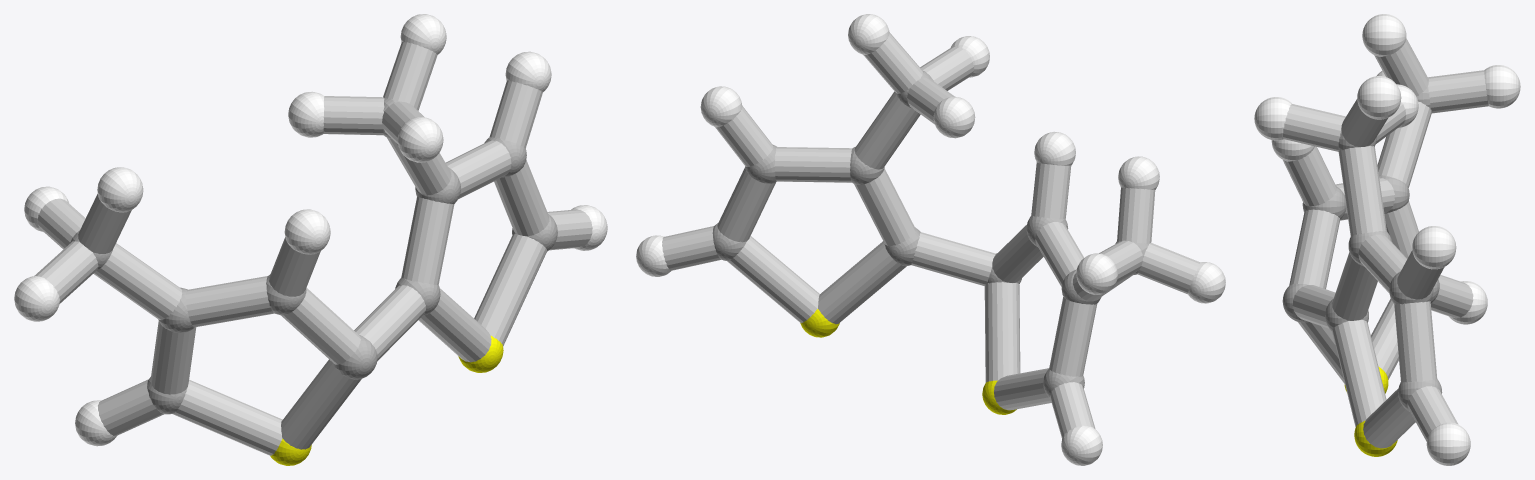
The model's file is Methylthiophene_Phi_60_Theta_170_Methylthiophene.glb.
3 renders of one model, left to right at view 1: azimuth 30°, elevation 25°; view 2: azimuth 150°, elevation 25°; view 3: azimuth 270°, elevation 25°, orthographic. The views are drawn at different scales.
Visible parts, largest first — view 1: grp7965, grp3621, grp1, grp7241; view 2: grp7965, grp3621, grp1, grp7241; view 3: grp7965, grp3621, grp1, grp7241.
Boxes of the visible parts, <box> form: grp7965: <box>34,42,592,455</box>; grp3621: <box>14,14,607,446</box>; grp1: <box>70,98,557,414</box>; grp7241: <box>270,335,503,465</box>; grp7965: <box>662,32,1200,438</box>; grp3621: <box>636,14,1225,465</box>; grp1: <box>712,71,1148,397</box>; grp7241: <box>800,309,1016,414</box>; grp7965: <box>1283,38,1488,448</box>; grp3621: <box>1254,14,1520,465</box>; grp1: <box>1282,86,1442,411</box>; grp7241: <box>1344,366,1397,456</box>.
Size of the model in its own units: 9.26 by 5.87 by 3.62.
